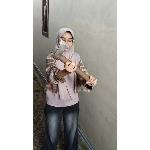Kapak: (52, 34, 94, 86)
